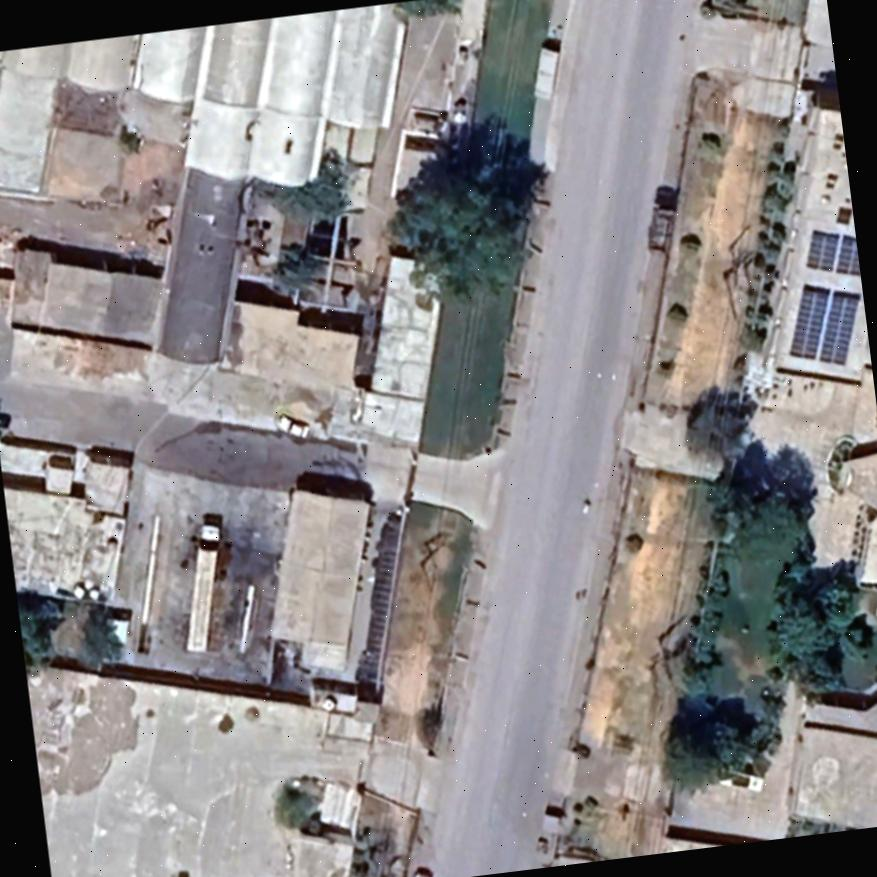Solarpanel: (782, 280, 862, 370), (802, 224, 861, 278)
